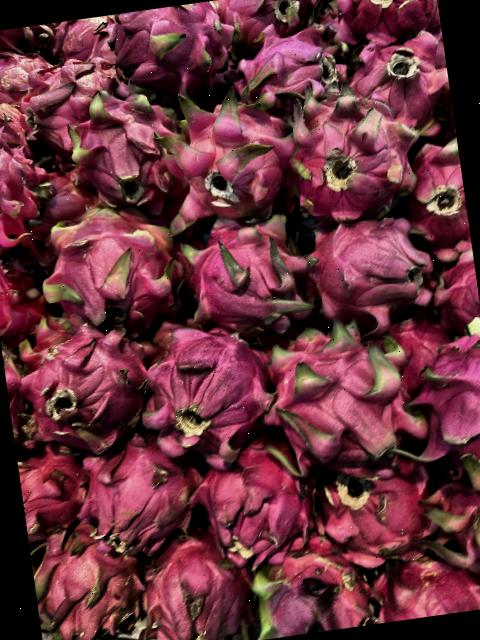buah-naga-belum-matang: (28, 208, 192, 336)
buah-naga-matang: (138, 306, 291, 486), (261, 309, 418, 479), (279, 72, 425, 238), (154, 80, 290, 242), (10, 320, 154, 460), (297, 201, 440, 338), (173, 206, 309, 342), (75, 436, 205, 560), (193, 445, 320, 570), (63, 88, 180, 216), (314, 453, 442, 570), (103, 0, 245, 100), (30, 527, 150, 640), (252, 535, 380, 639), (228, 19, 351, 120), (346, 24, 454, 137), (139, 532, 244, 640), (422, 333, 480, 521), (0, 109, 63, 259), (401, 134, 470, 245)
